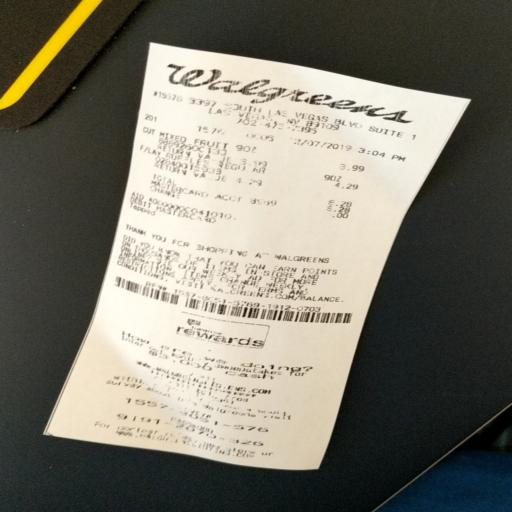paper: (21, 0, 492, 512)
